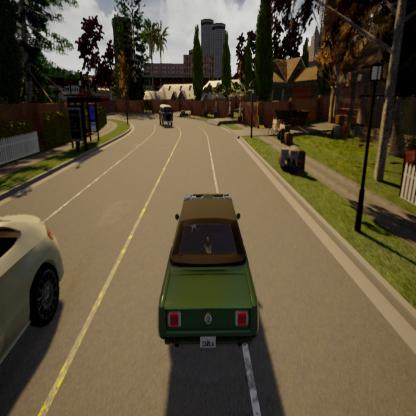Cars: (158, 193, 258, 352), (0, 213, 65, 365), (158, 104, 173, 128)
